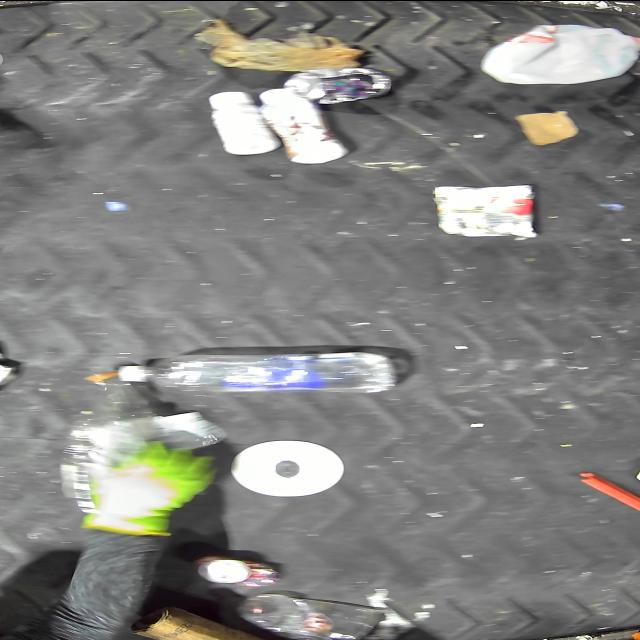can: (434, 185, 540, 238), (283, 66, 391, 102), (196, 554, 284, 588)
milk_jug: (482, 22, 638, 84)
plastic_bottle: (123, 344, 405, 393)
